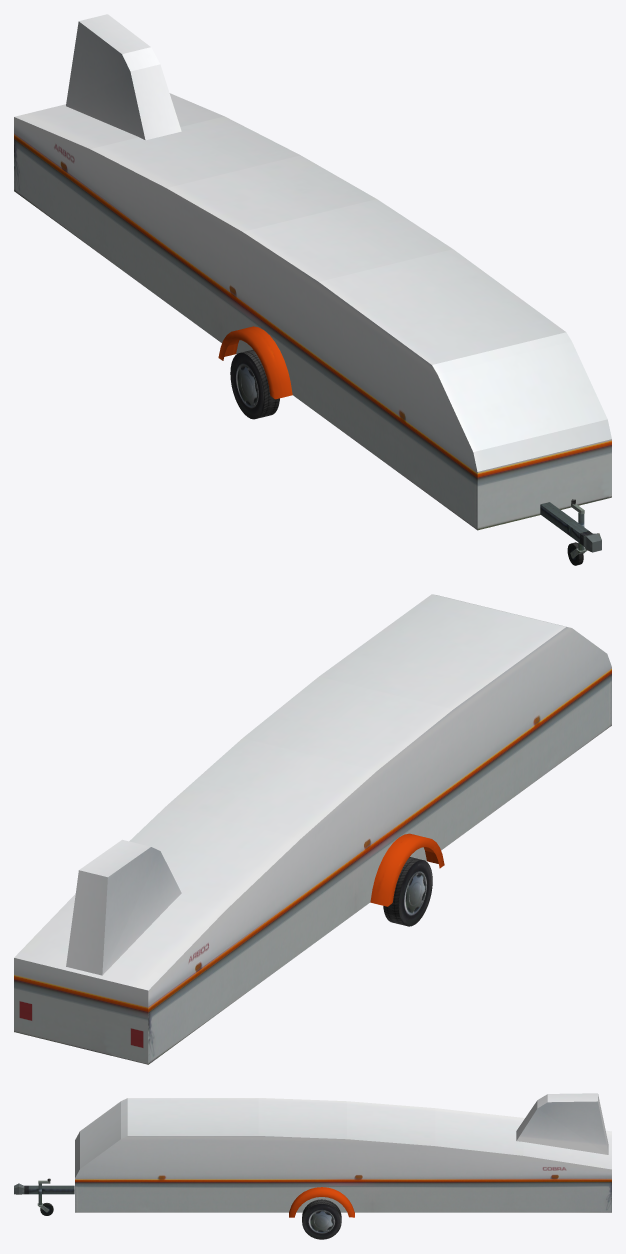
File: glider-trailer-orange-9m-cbj_LOD00.gltf
3 views of the same model, one above another, from view 1: azimuth 30°, elevation 25°; view 2: azimuth 150°, elevation 25°; view 3: azimuth 270°, elevation 25° (orthographic). The views are drawn at different scales.
Visible parts, largest first — view 1: trailer; view 2: trailer; view 3: trailer.
Boxes of the visible parts, <box> form: trailer: <box>14,14,611,565</box>; trailer: <box>14,594,611,1064</box>; trailer: <box>14,1093,611,1239</box>.
Size of the model in its own units: 1.7 by 1.97 by 9.
